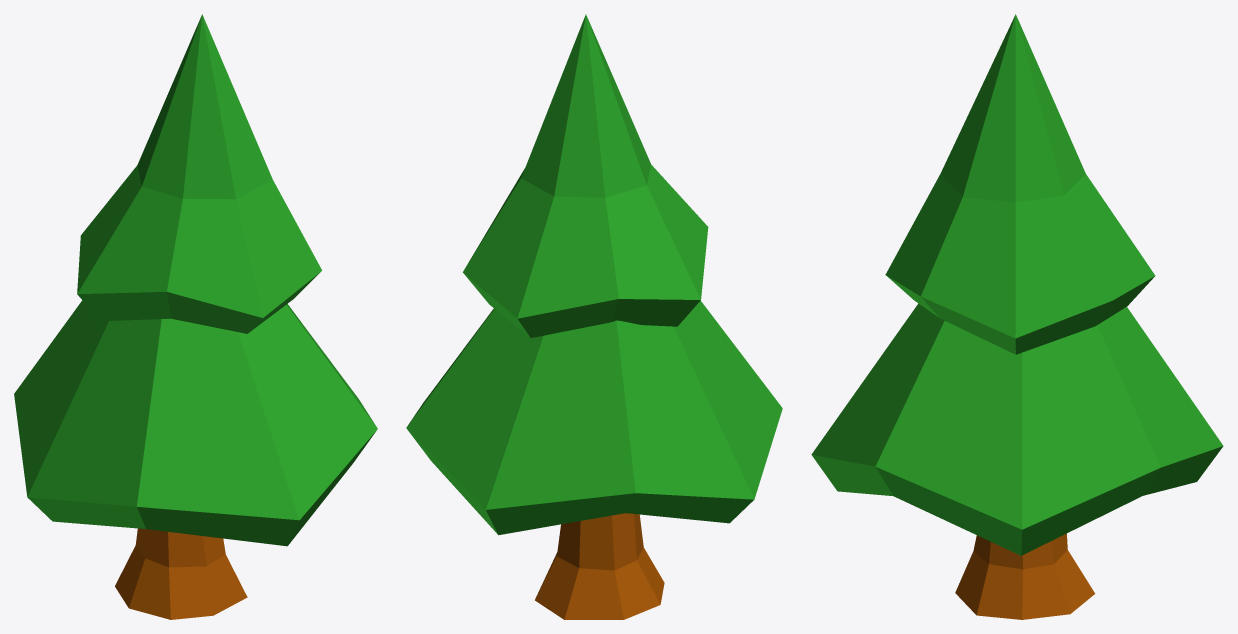
File: Tree_Spruce4.fbx
3 renders of one model, left to right at view 1: azimuth 30°, elevation 25°; view 2: azimuth 150°, elevation 25°; view 3: azimuth 270°, elevation 25°, orthographic. The views are drawn at different scales.
Parts seen in each view (by area): view 1: Tree_Spruce4; view 2: Tree_Spruce4; view 3: Tree_Spruce4.
Boxes of the visible parts, x1,y1,x2,y2 form: Tree_Spruce4: [14, 14, 377, 619]; Tree_Spruce4: [406, 14, 782, 619]; Tree_Spruce4: [811, 14, 1223, 619].
Size of the model in its own units: 3.33 by 3.5 by 5.52.
